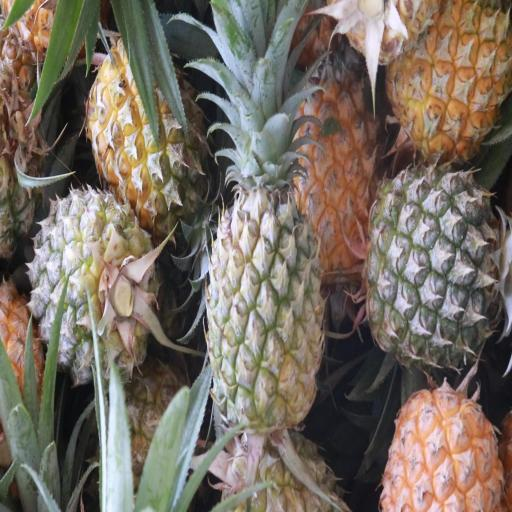------------------------------: (87, 25, 205, 224), (28, 195, 150, 386)
Pineapple - v8 v1: (296, 56, 382, 272), (391, 0, 507, 153), (383, 384, 503, 512)
